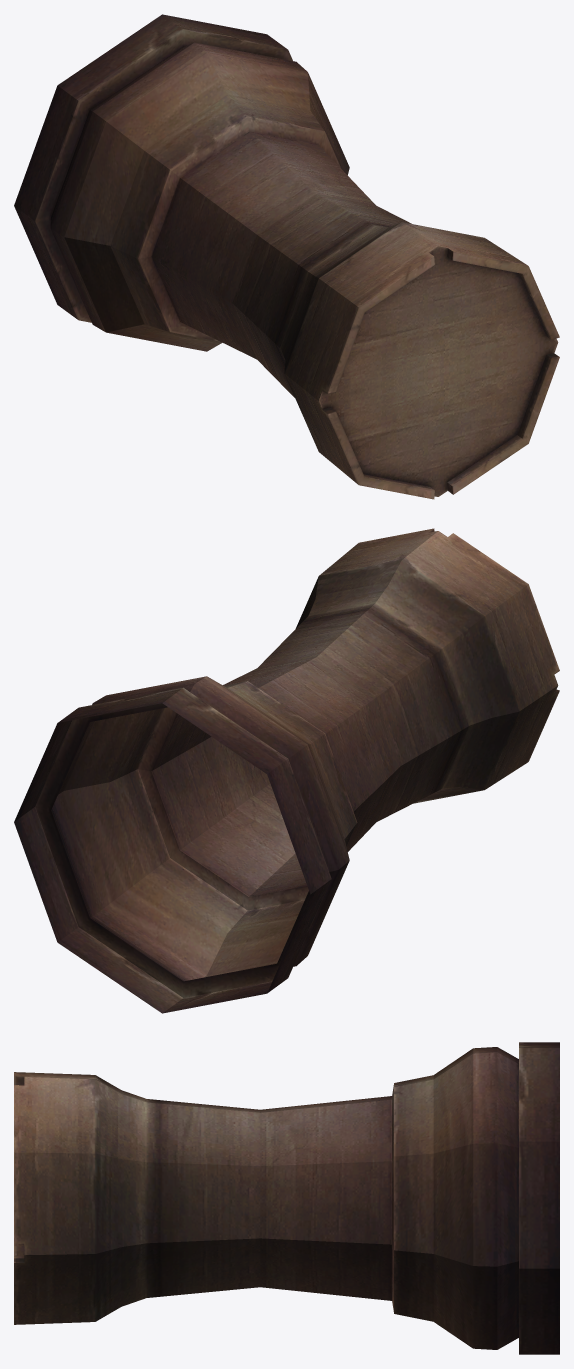
Rendered from juqing_fuben_544_qizi_04b.obj.
3 views of the same model, one above another, from view 1: azimuth 30°, elevation 25°; view 2: azimuth 150°, elevation 25°; view 3: azimuth 270°, elevation 25° (orthographic). The views are drawn at different scales.
Parts seen in each view (by area): view 1: juqing_fuben_544_qizi_04b; view 2: juqing_fuben_544_qizi_04b; view 3: juqing_fuben_544_qizi_04b.
Part boxes in pixels (x1=…): juqing_fuben_544_qizi_04b: x1=14, y1=14, x2=559, y2=499; juqing_fuben_544_qizi_04b: x1=14, y1=528, x2=559, y2=1013; juqing_fuben_544_qizi_04b: x1=14, y1=1042, x2=559, y2=1354.
Bounding box in the file's own units: 125 × 125 × 205.
Materials: 1 (1 with a texture image).
